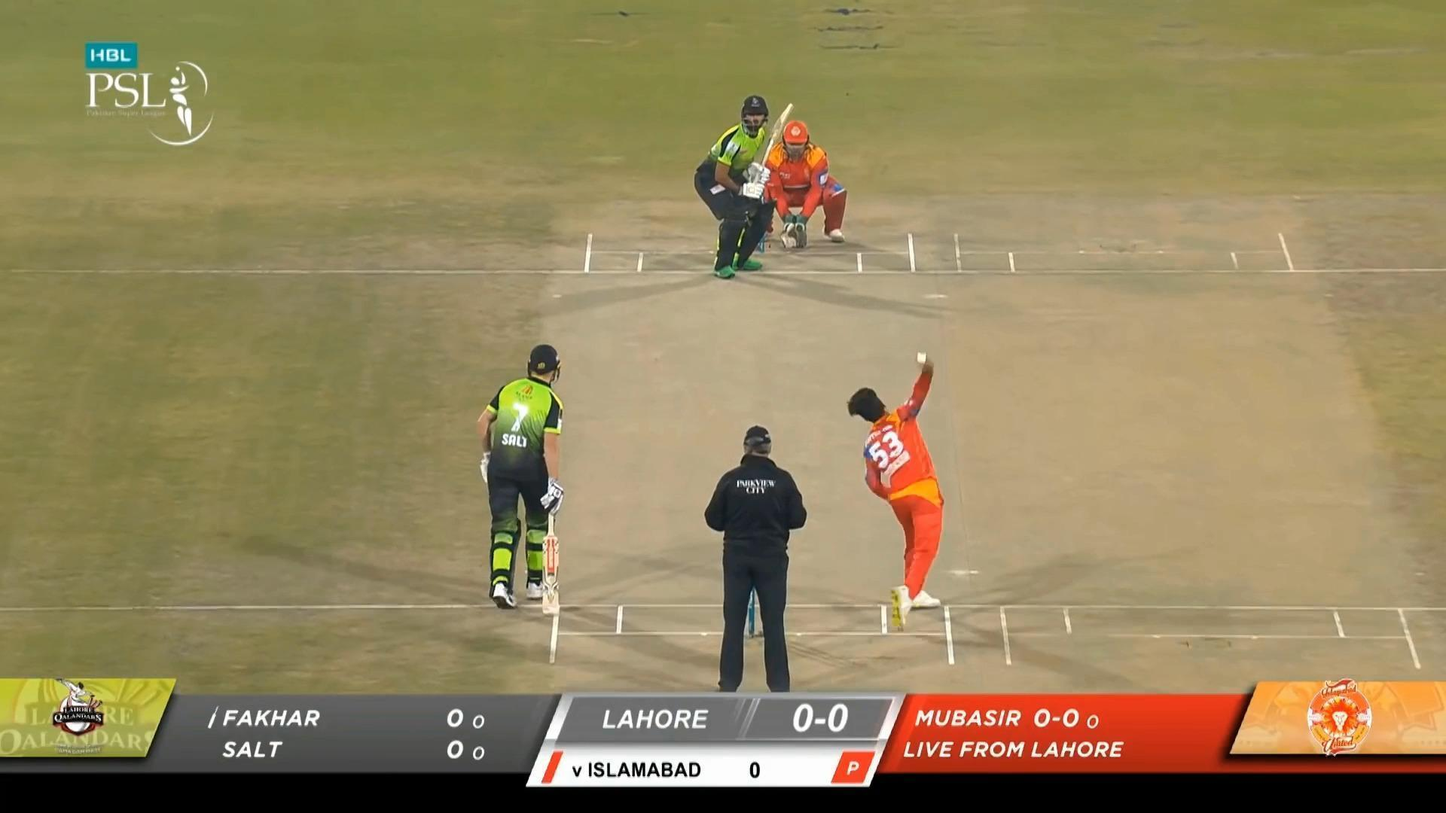BM 1: (694, 92, 796, 281)
BO: (841, 349, 949, 635)
